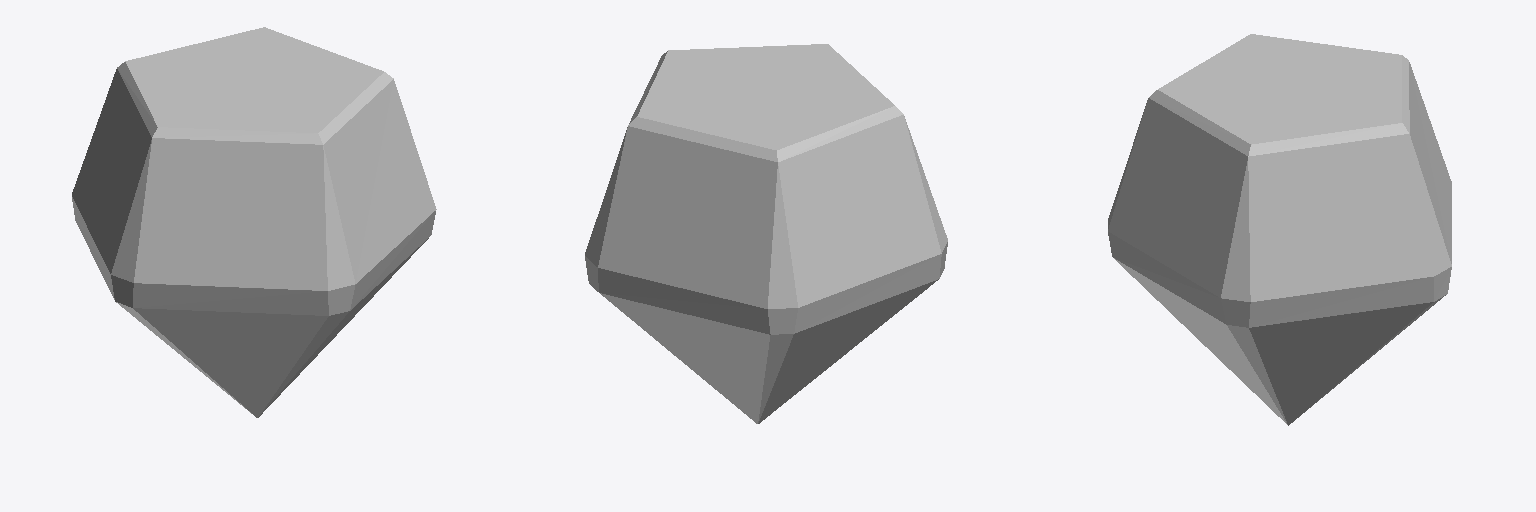
Rendered from Yellow Gem.obj.
3 renders of one model, left to right at view 1: azimuth 30°, elevation 25°; view 2: azimuth 150°, elevation 25°; view 3: azimuth 270°, elevation 25°, orthographic.
Visible parts, largest first — view 1: Yellow_Gem; view 2: Yellow_Gem; view 3: Yellow_Gem.
Boxes of the visible parts, box(x1,y1,x2,y2) form: Yellow_Gem: box(72, 27, 436, 417); Yellow_Gem: box(585, 44, 947, 423); Yellow_Gem: box(1108, 34, 1451, 425).
Size of the model in its own units: 8.31 by 8.32 by 7.77.